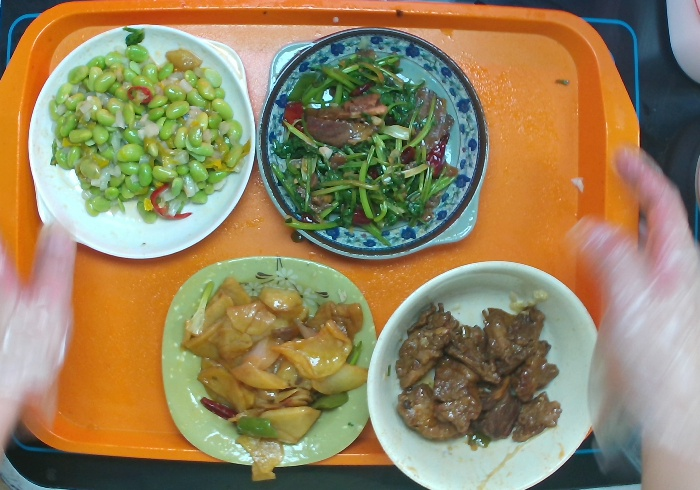NLDX-Bai_Se_Shuang_Er_Die: (24, 20, 264, 262)
NLDX-Bai_Se_Yuan_Wan: (363, 257, 599, 490)
NLDX-Lv_Hua_Fang_Die: (162, 251, 379, 469)
NLDX-Qing_Hua_Shuang_Er_Die: (255, 21, 489, 265)
